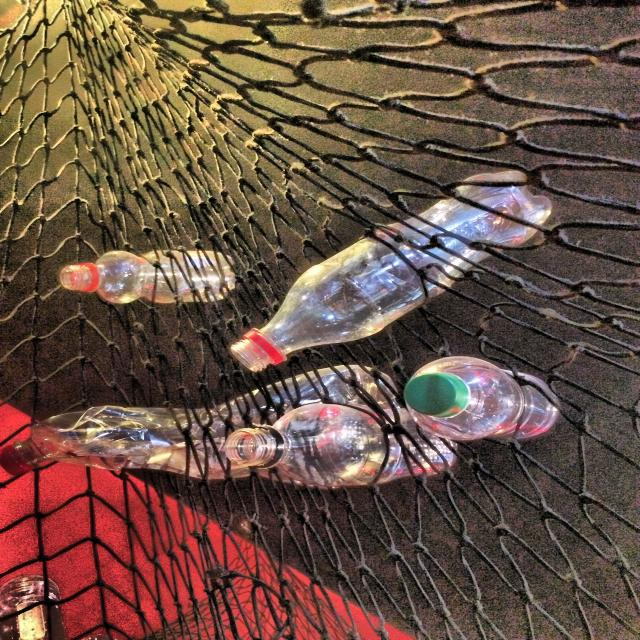Bottles: (182, 156, 606, 374), (0, 357, 460, 508), (211, 401, 484, 515), (383, 349, 597, 456), (30, 226, 252, 322)
